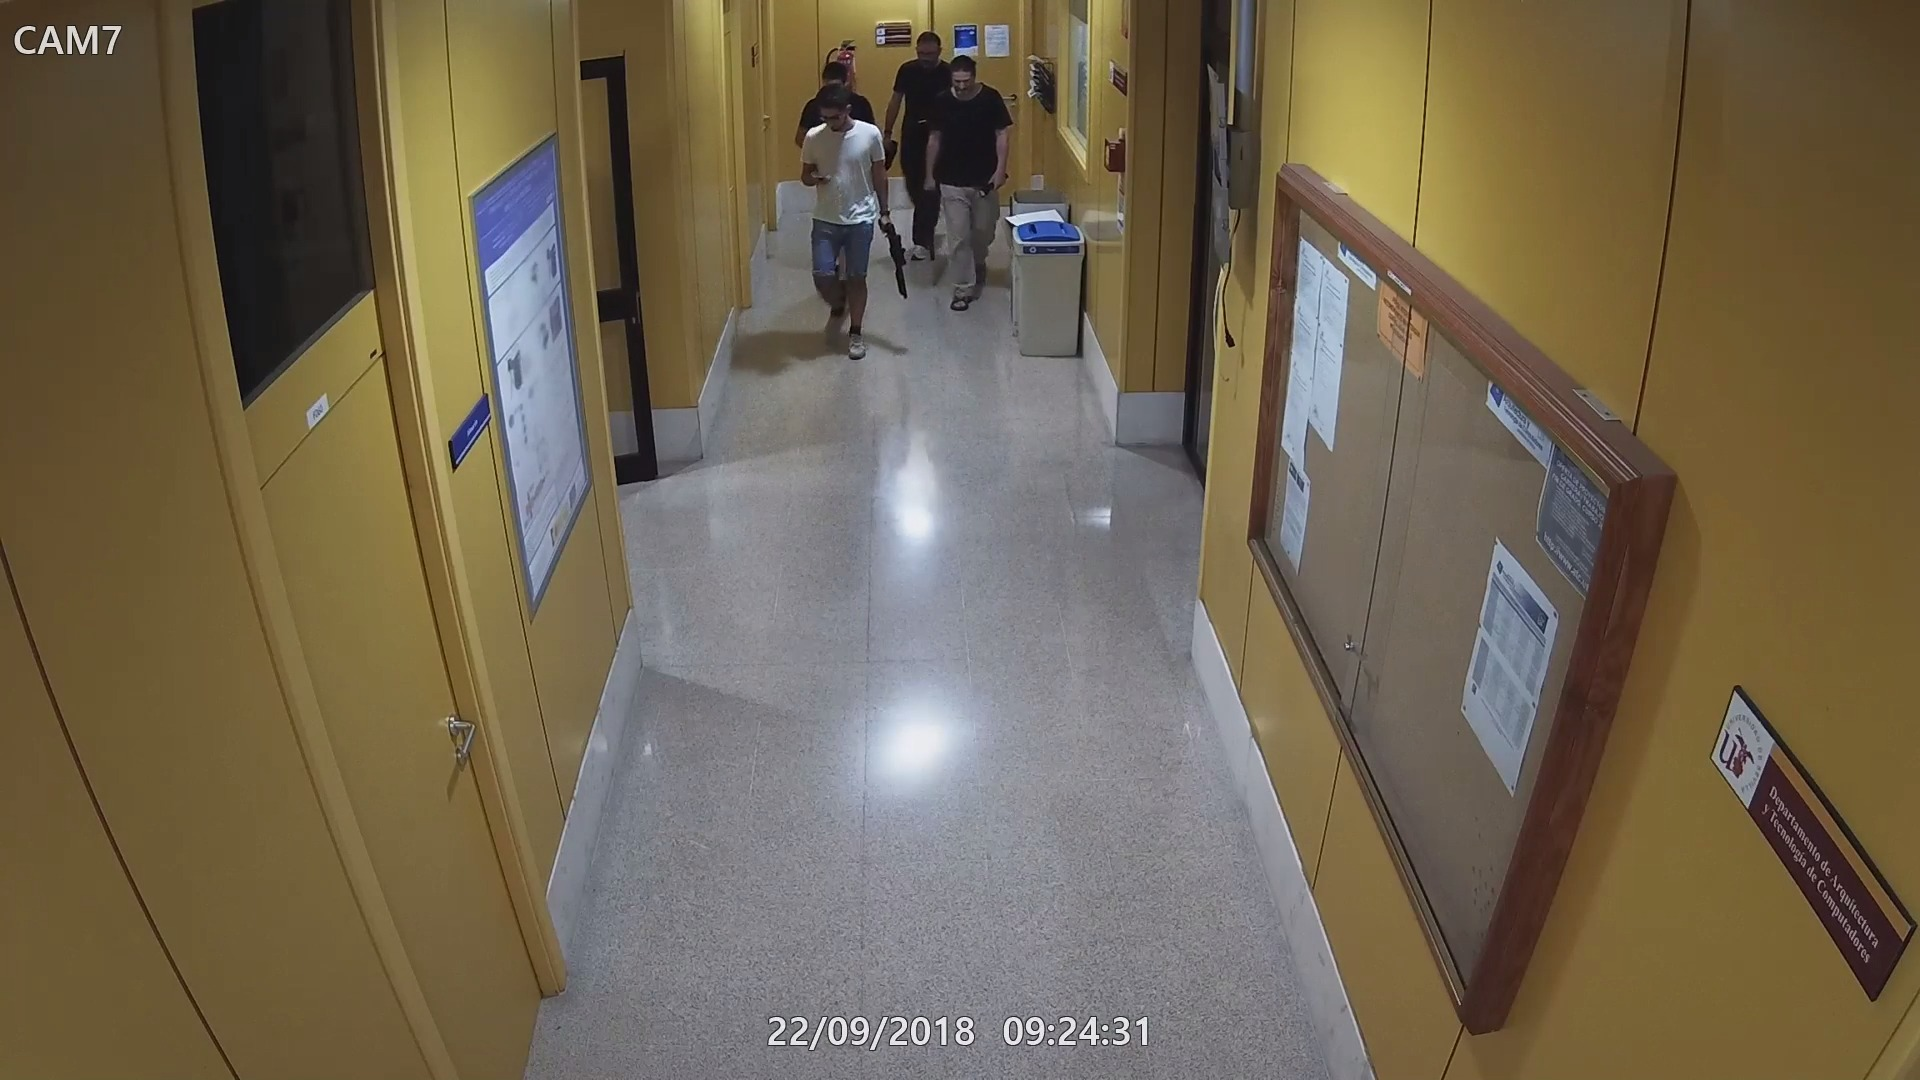Short_rifle: (876, 212, 909, 302), (919, 175, 945, 265)
